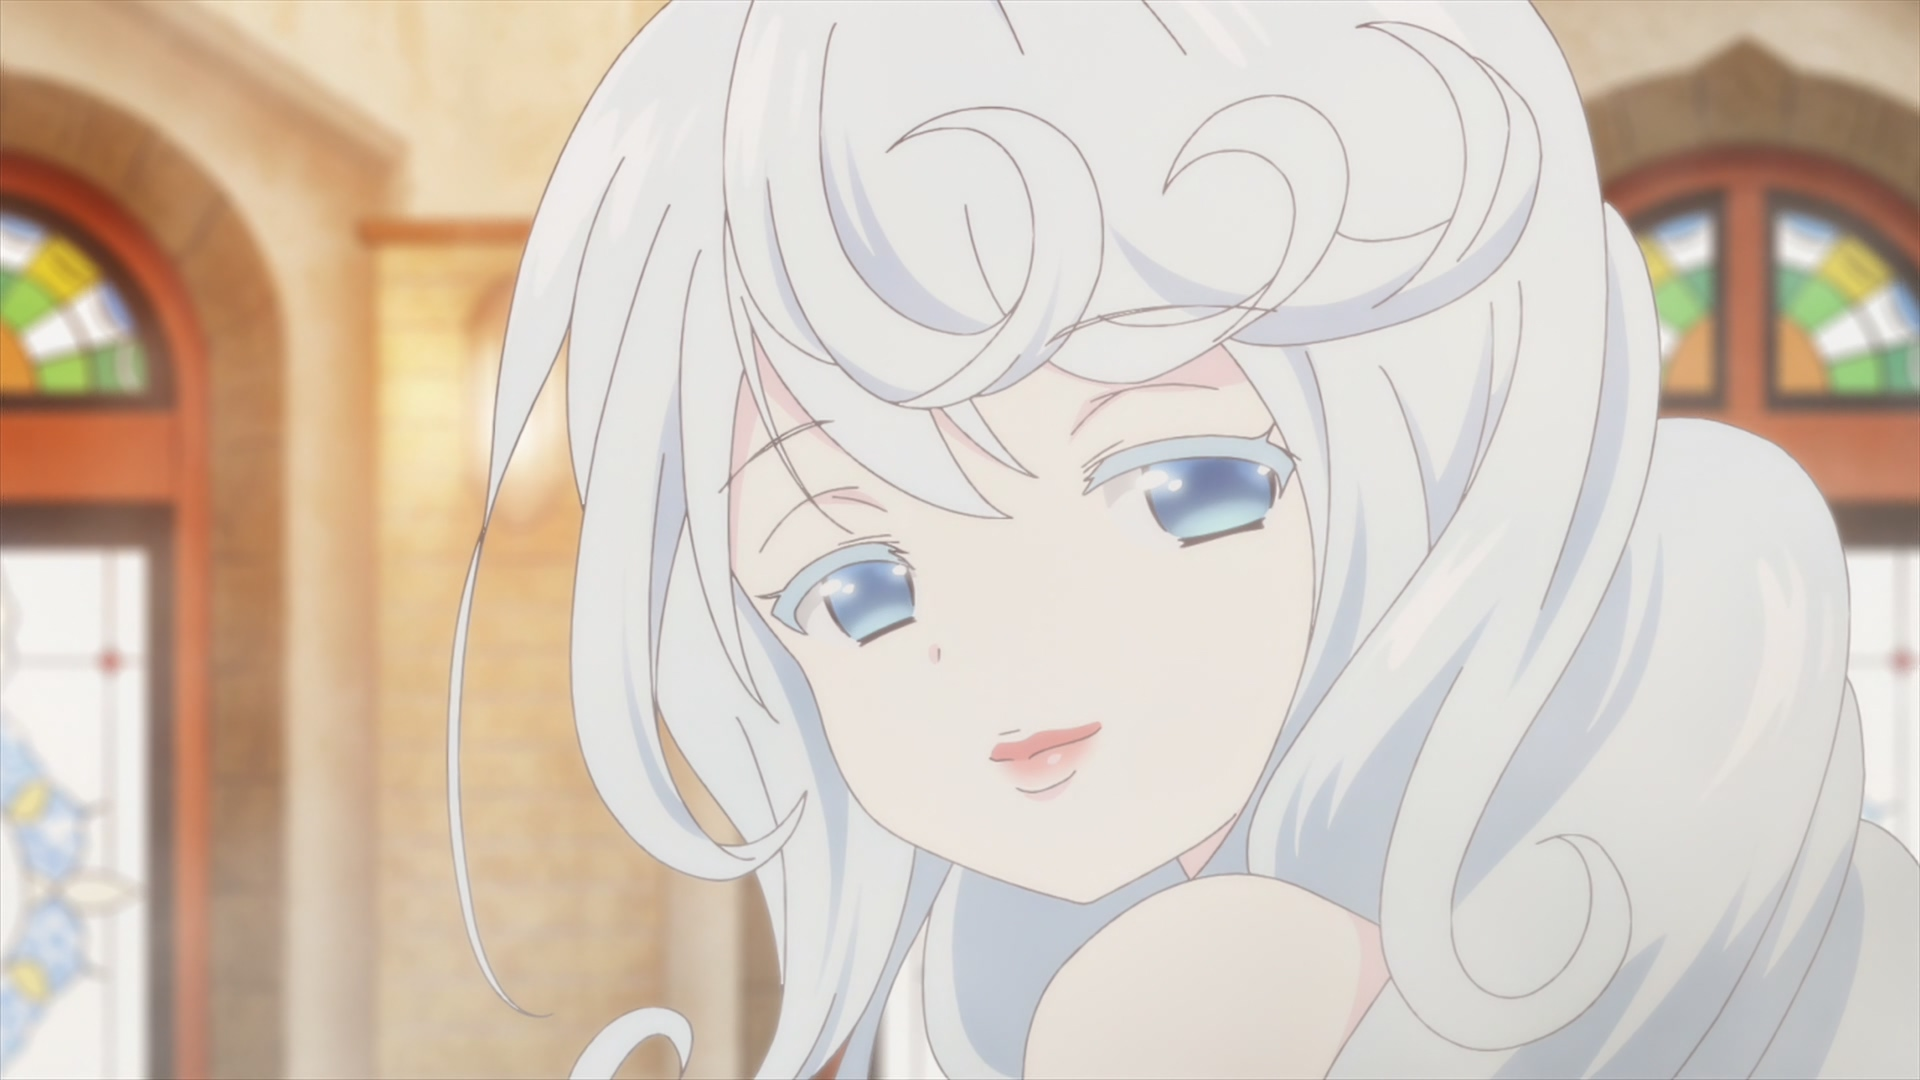其他: (448, 1, 1920, 1080)
